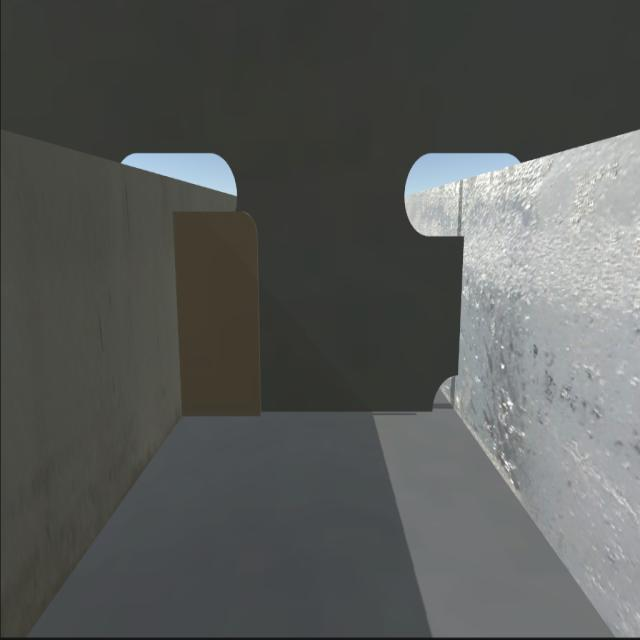fillet_hole: (430, 371, 462, 414)
fillet_yong_jeop_jang: (184, 408, 436, 420)
longi_yong_jeop_jang: (171, 212, 189, 415), (451, 232, 468, 375)
plate_CP05: (176, 210, 266, 417)
